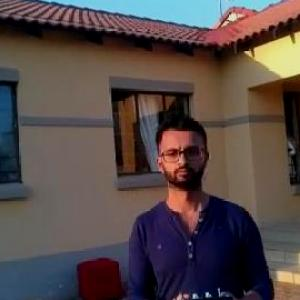follow: (127, 107, 283, 299)
null: (1, 279, 61, 299)
